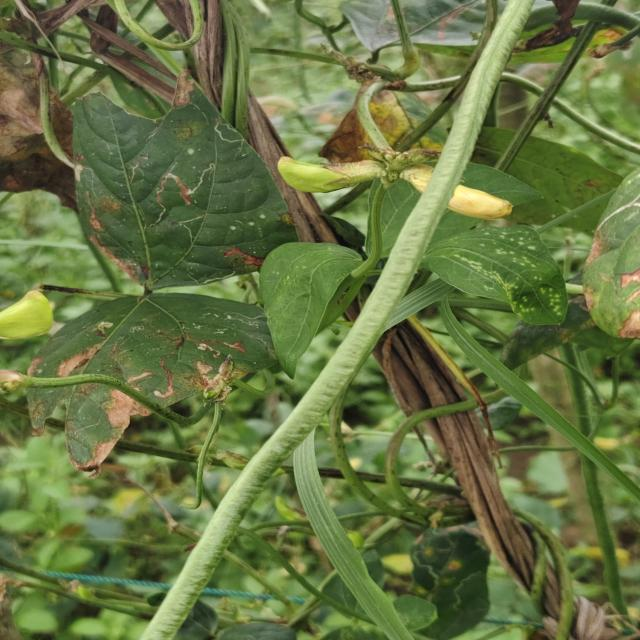10: (141, 55, 490, 640), (355, 562, 405, 635)
sitaw-aphid-low: (74, 89, 297, 288), (28, 293, 276, 407), (27, 381, 153, 470)
